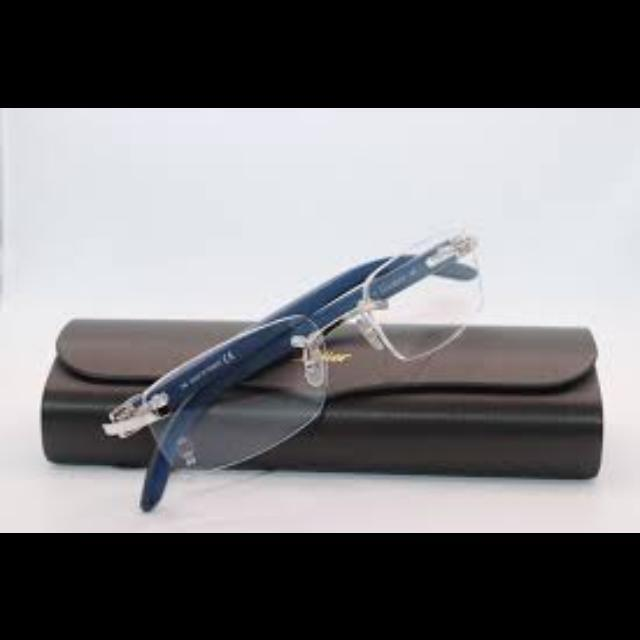mask: (105, 223, 488, 512)
